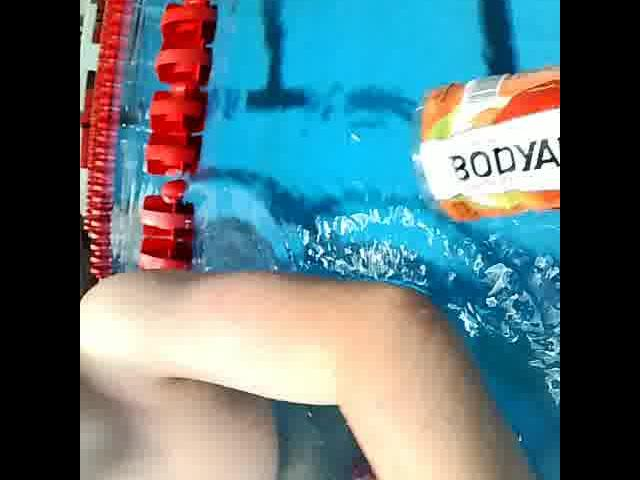Bottle: (402, 55, 560, 220)
